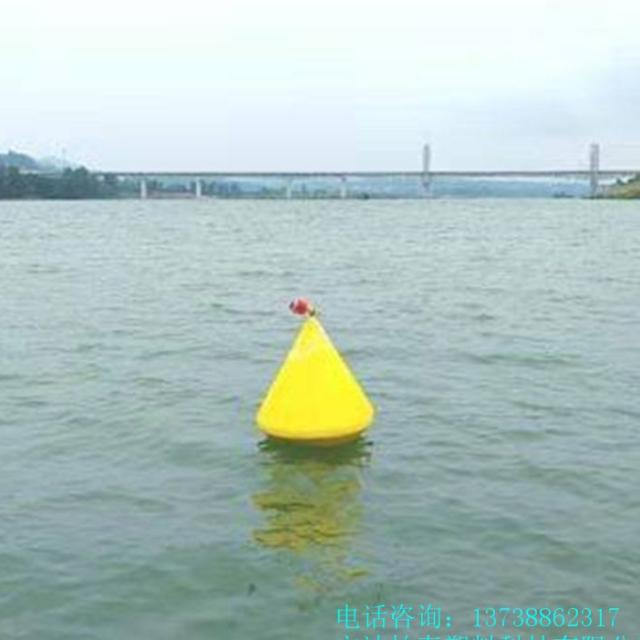buoy: (255, 290, 374, 446)
